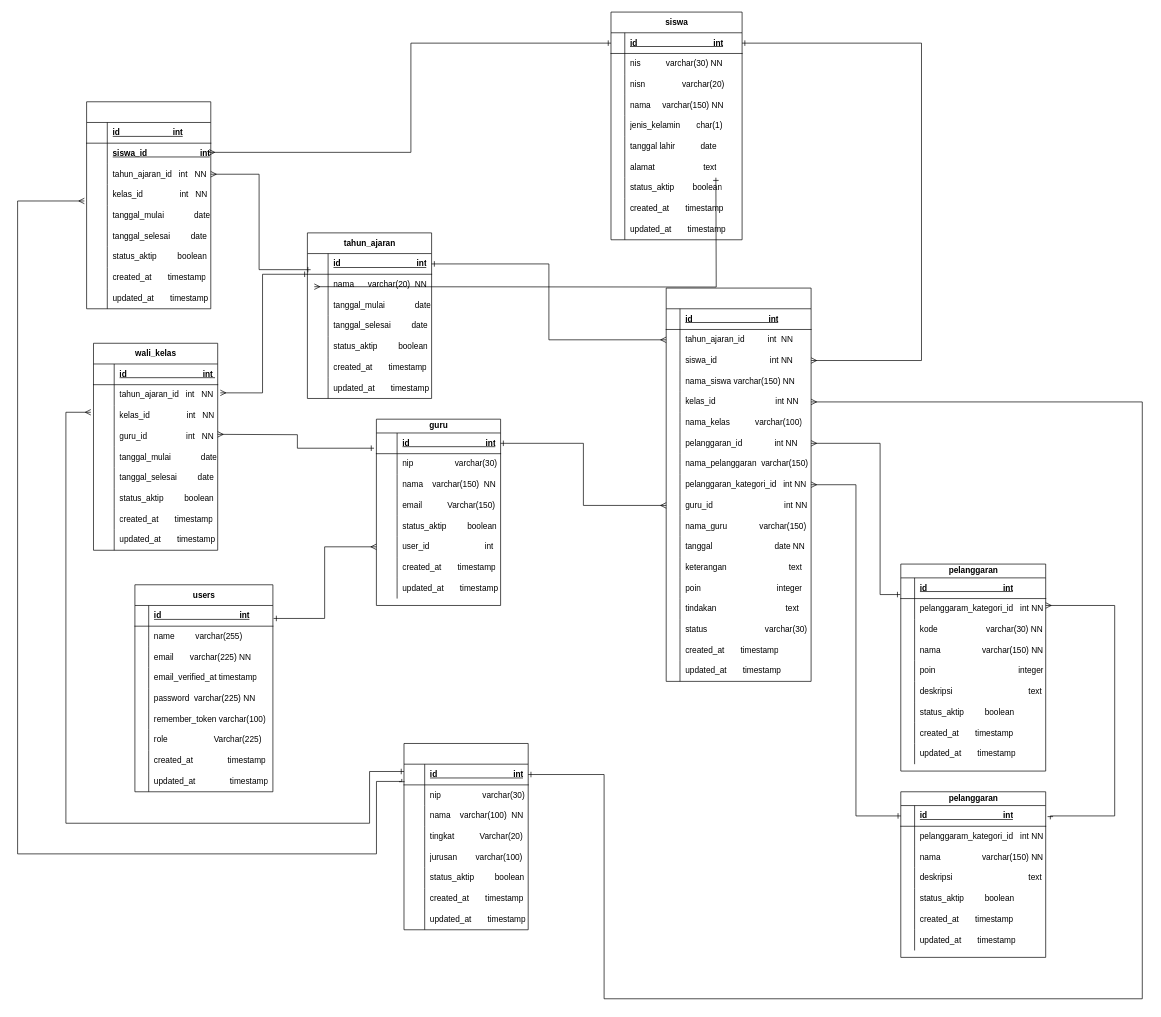
The diagram is 1161 pixels wide and 1017 high, and some of its shapes have lost their labels. Each missing label, with the box of its shape:
kelas: (403, 743, 528, 930)
kelas_siswa: (86, 101, 211, 309)
pelanggaran_siswa: (666, 287, 811, 681)
